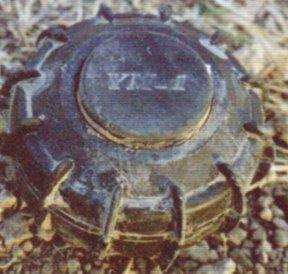pmn: (1, 0, 276, 273)
